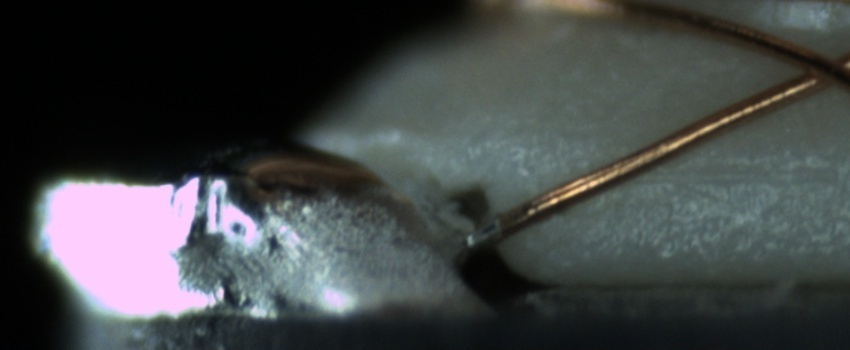CL: (777, 41, 849, 99)
DL: (619, 136, 842, 209)
TS: (464, 215, 499, 249)
